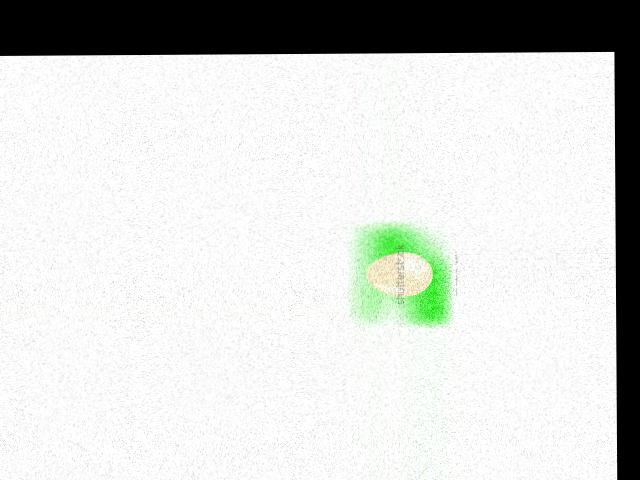egg: (366, 251, 432, 296)
